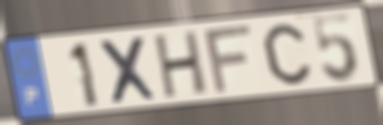1: (67, 39, 102, 109)
5: (310, 11, 362, 85)
C: (260, 21, 314, 87)
F: (202, 22, 256, 98)
H: (153, 28, 210, 102)
X: (95, 34, 161, 107)
